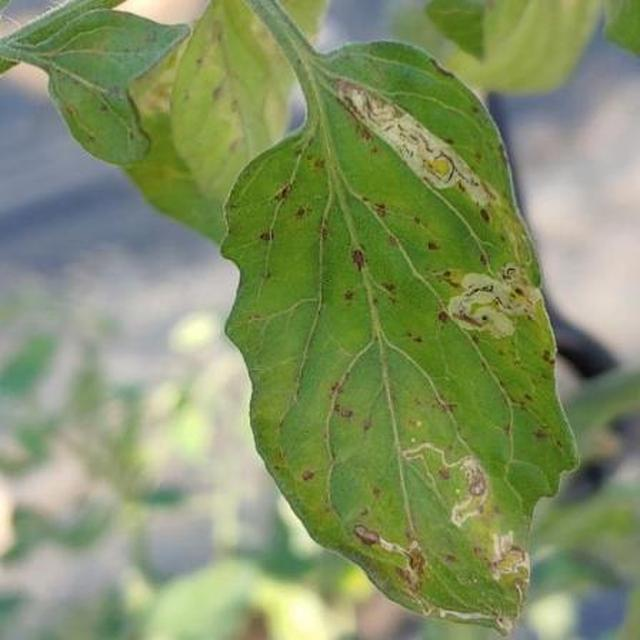Leaf Miner: (310, 164, 640, 640)
